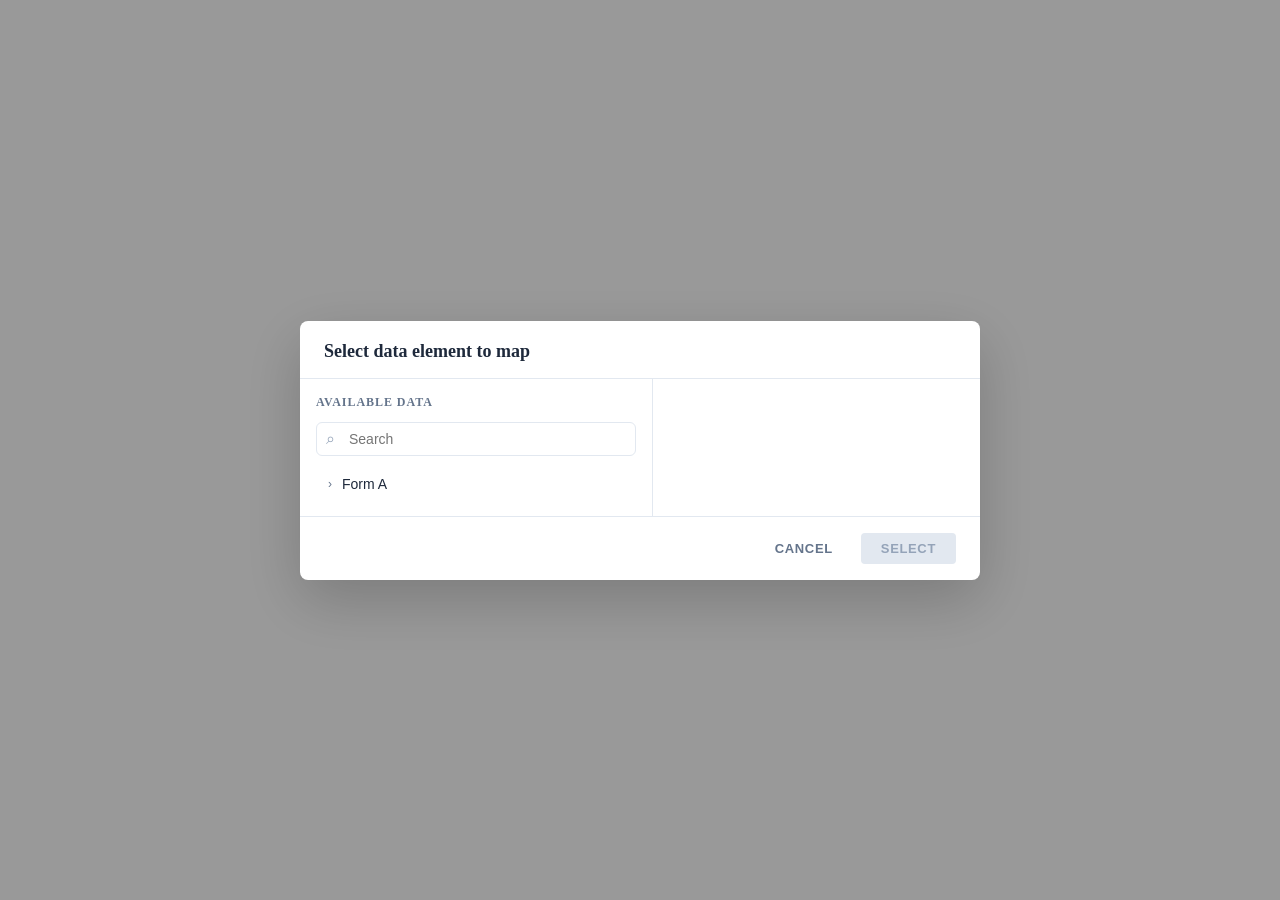
Test: DataElementModal › shows group names and expands them on click
Expected: the text "email" is not shown
What coordinates should you click on to do the following:
click the button "› Form A"
I would click on:
 (365, 484)
Its box is [316,468,636,500].
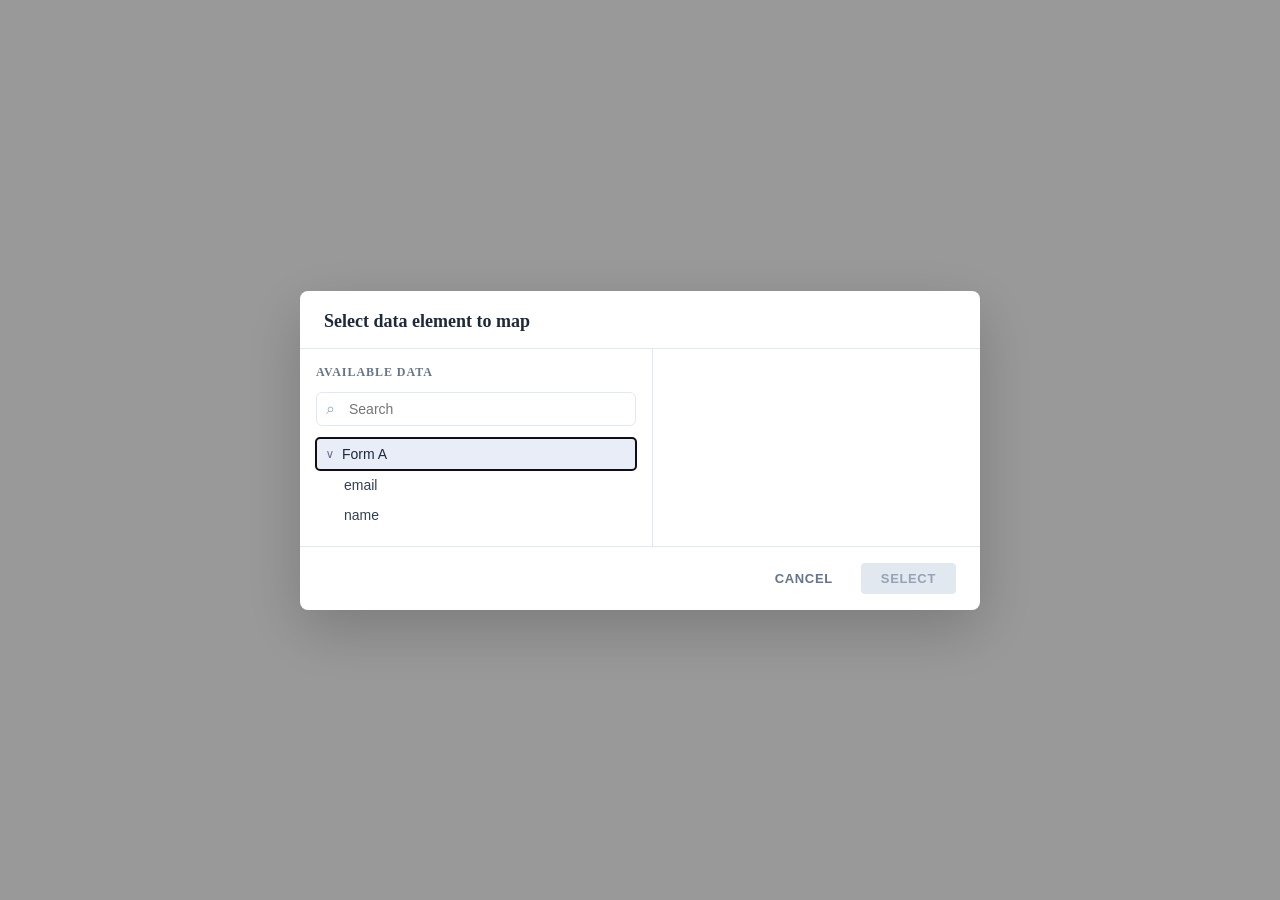
Expected: the button "email" is shown, [336,470,636,500]
